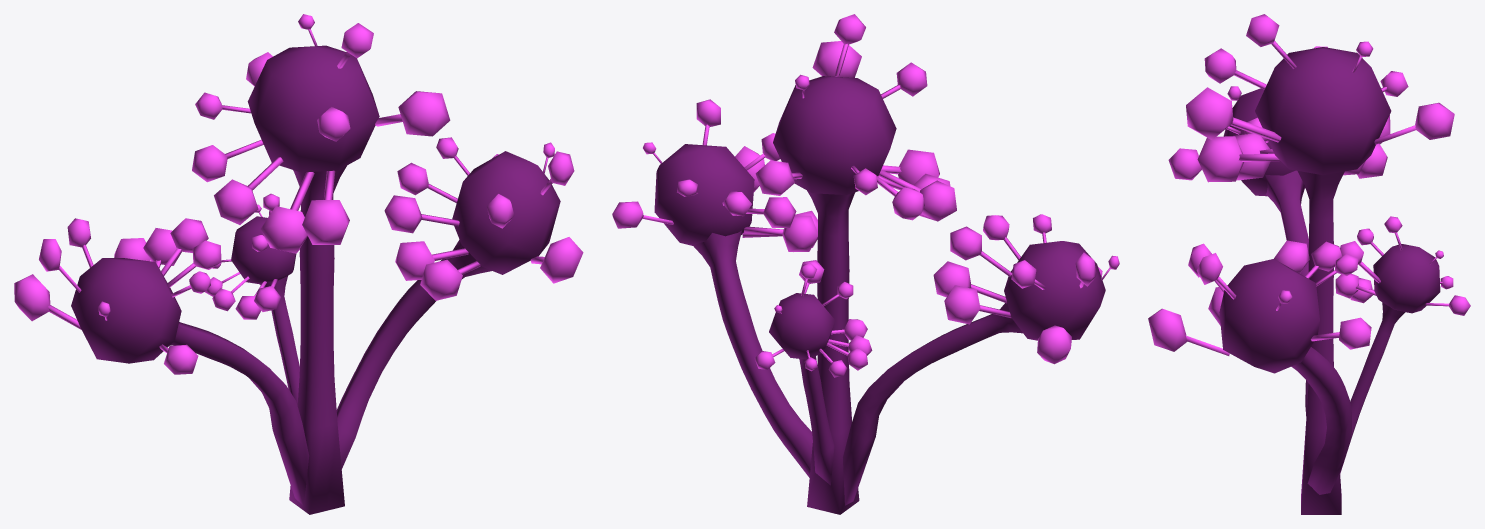
The model's file is Plant 1.fbx.
The picture shows the model from 3 angles, left to right: view 1: azimuth 30°, elevation 25°; view 2: azimuth 150°, elevation 25°; view 3: azimuth 270°, elevation 25°; orthographic projection. The views are drawn at different scales.
Visible parts, largest first — view 1: plant 1; view 2: plant 1; view 3: plant 1.
Part boxes in pixels (x1,y1,x2,y2): plant 1: [14, 14, 583, 514]; plant 1: [612, 14, 1119, 514]; plant 1: [1148, 14, 1470, 514].
Bounding box in the file's own units: 174 × 165 × 97.69.
